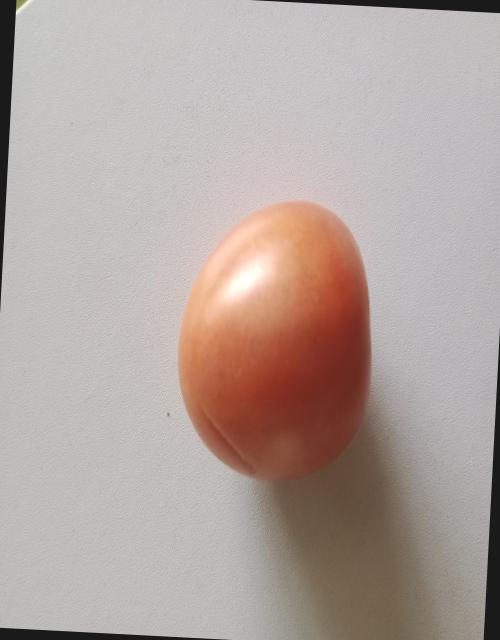Tomate: (118, 167, 414, 600)
